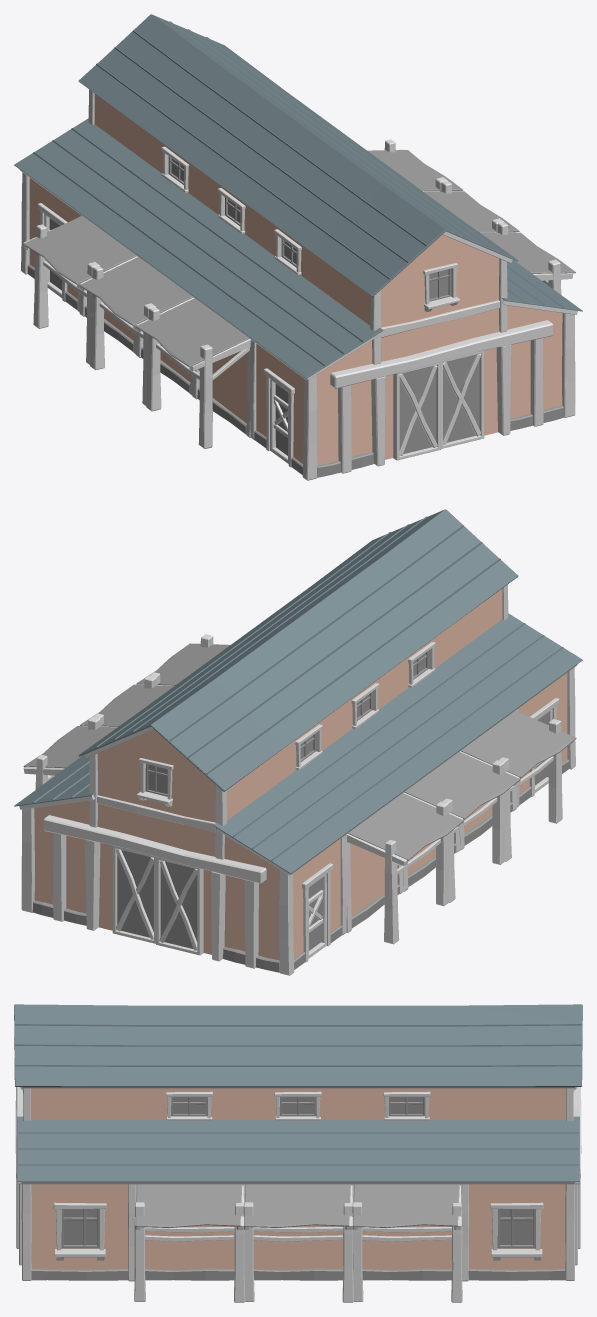
Rendered from fp_barn_classic.glb.
The picture shows the model from 3 angles, top to bottom: view 1: azimuth 30°, elevation 25°; view 2: azimuth 150°, elevation 25°; view 3: azimuth 270°, elevation 25°; orthographic projection. The views are drawn at different scales.
Bounding box in the file's own units: 1.44 × 0.7882 × 1.9.
